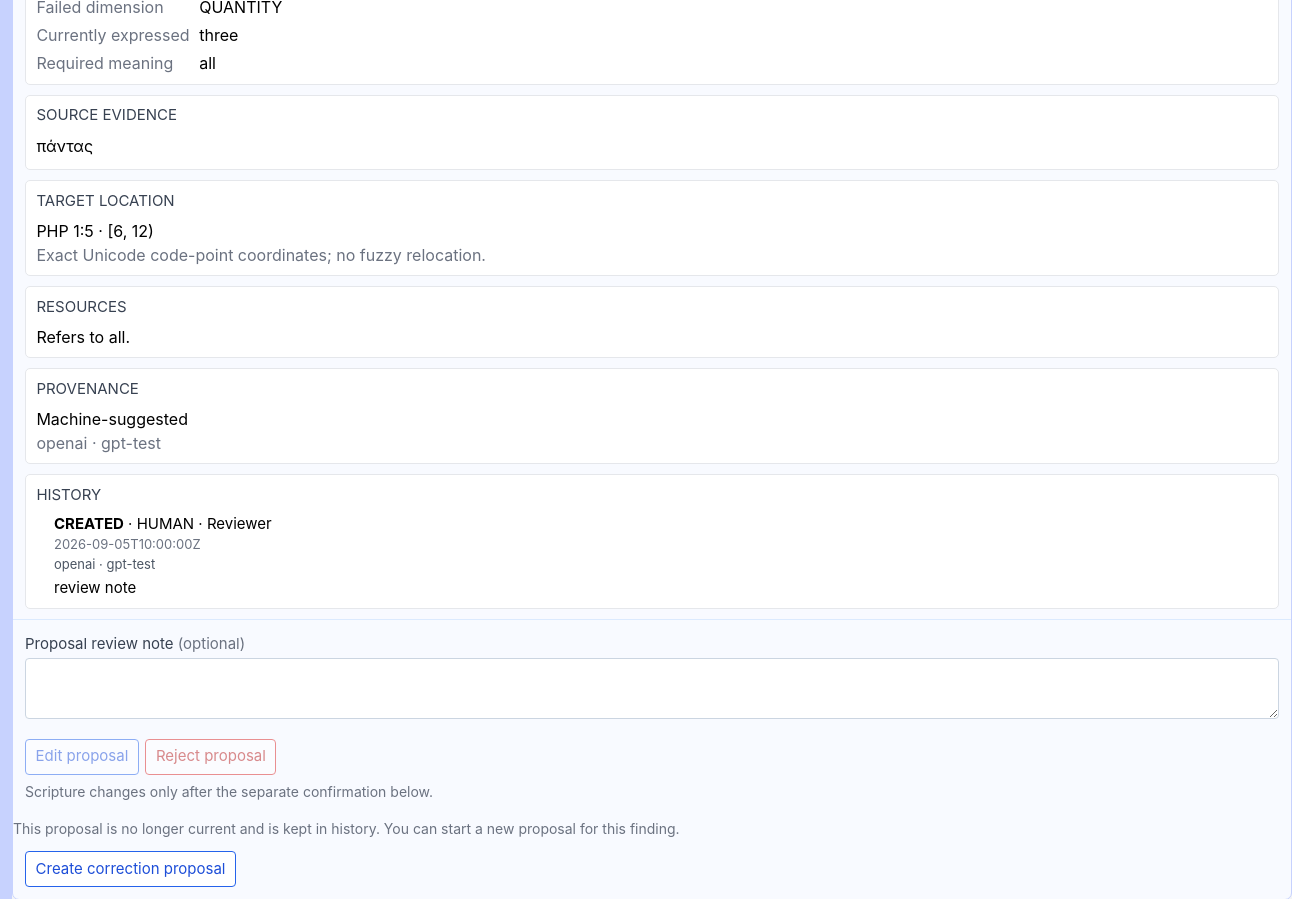
CorrectionReviewPanel › #315: a new proposal after a rejection › creates the new proposal as the rejected one's successor and keeps both listed
(page scrolled)
Click the button "Create correction proposal": click(131, 869) [25,851,236,887]
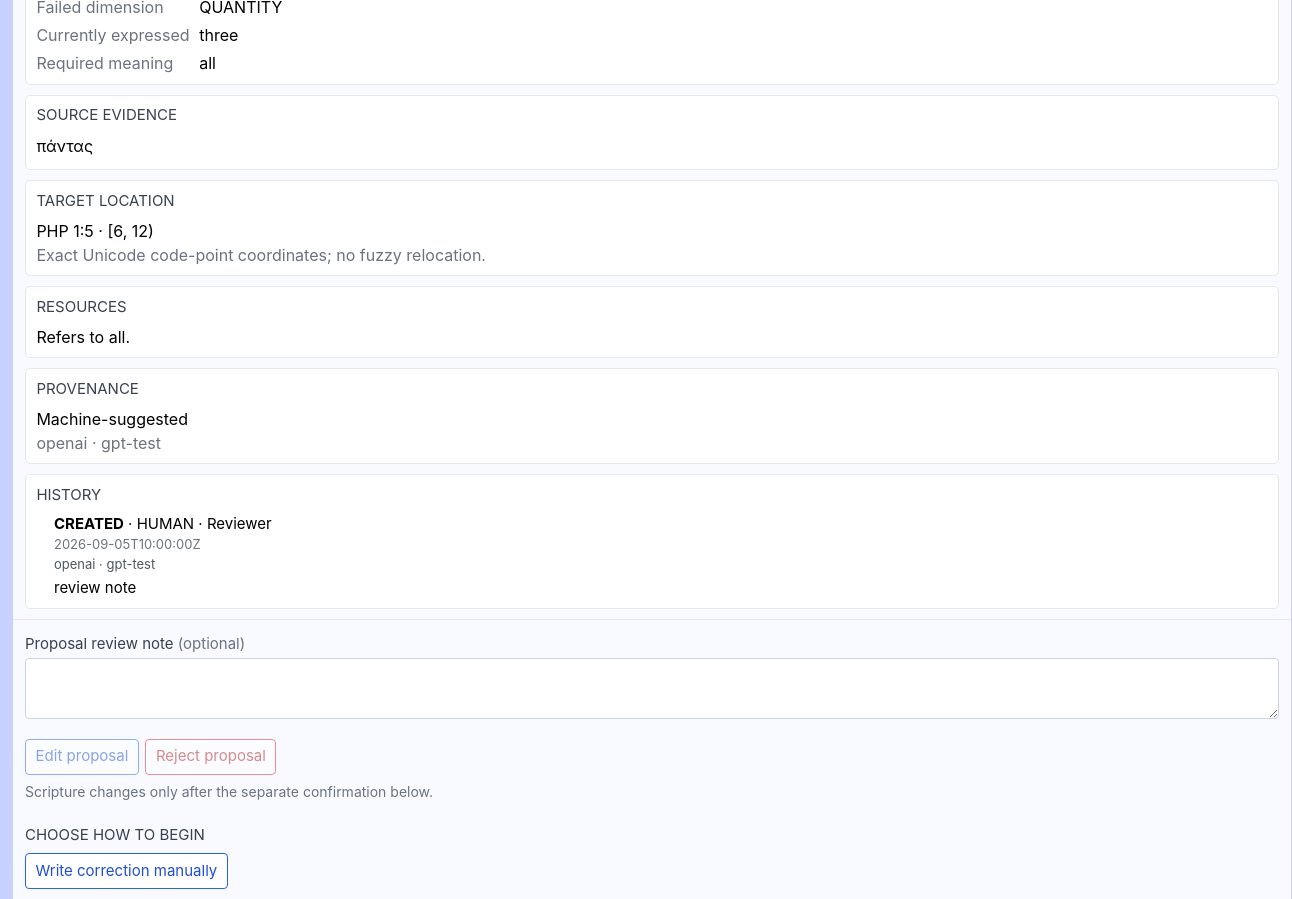
Click the button "Write correction manually": click(126, 871) [25,853,228,889]
(page scrolled)
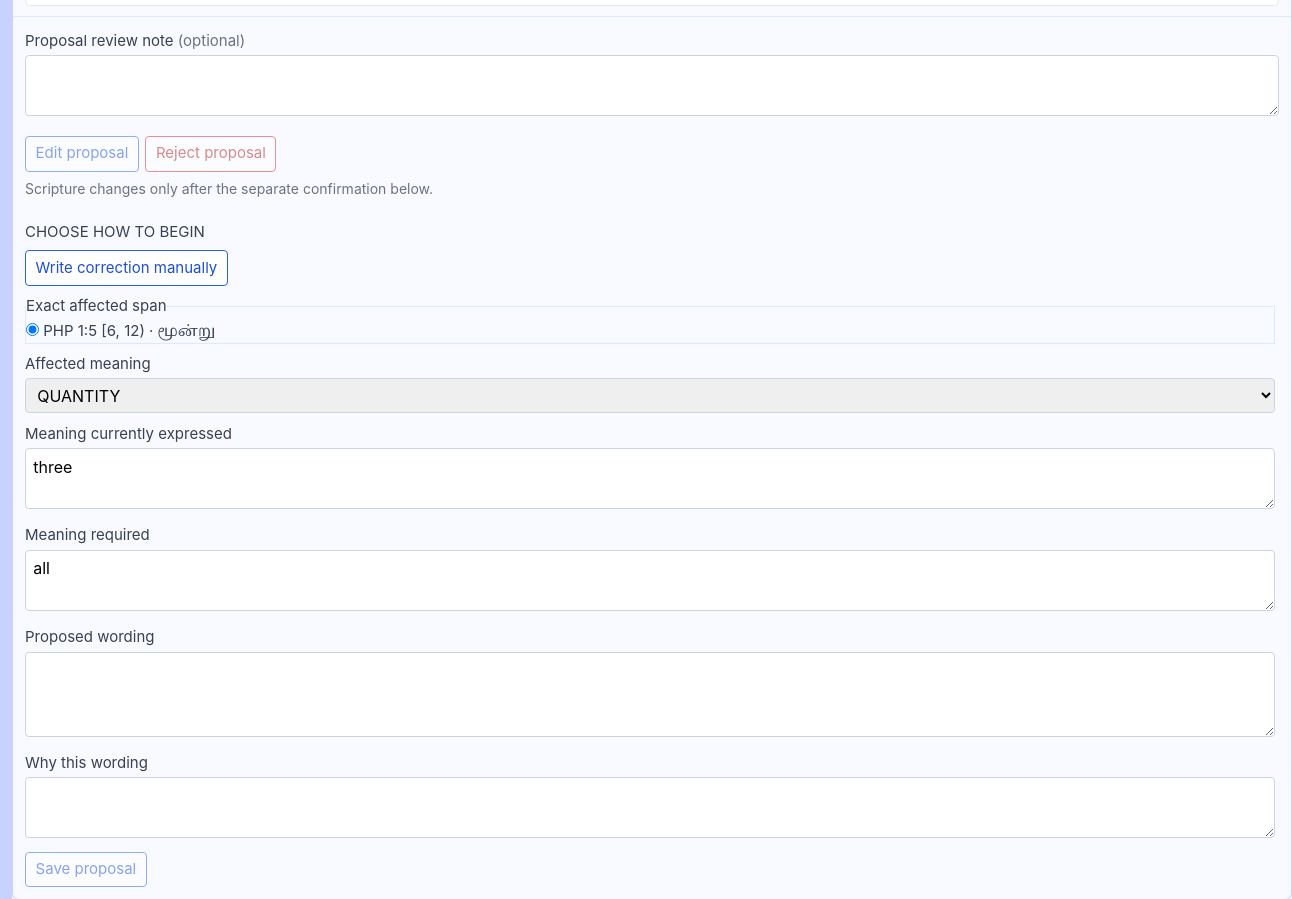
In the text box labelled "Proposed wording": (650, 694) [25,652,1275,737], type "அனைவரும்"
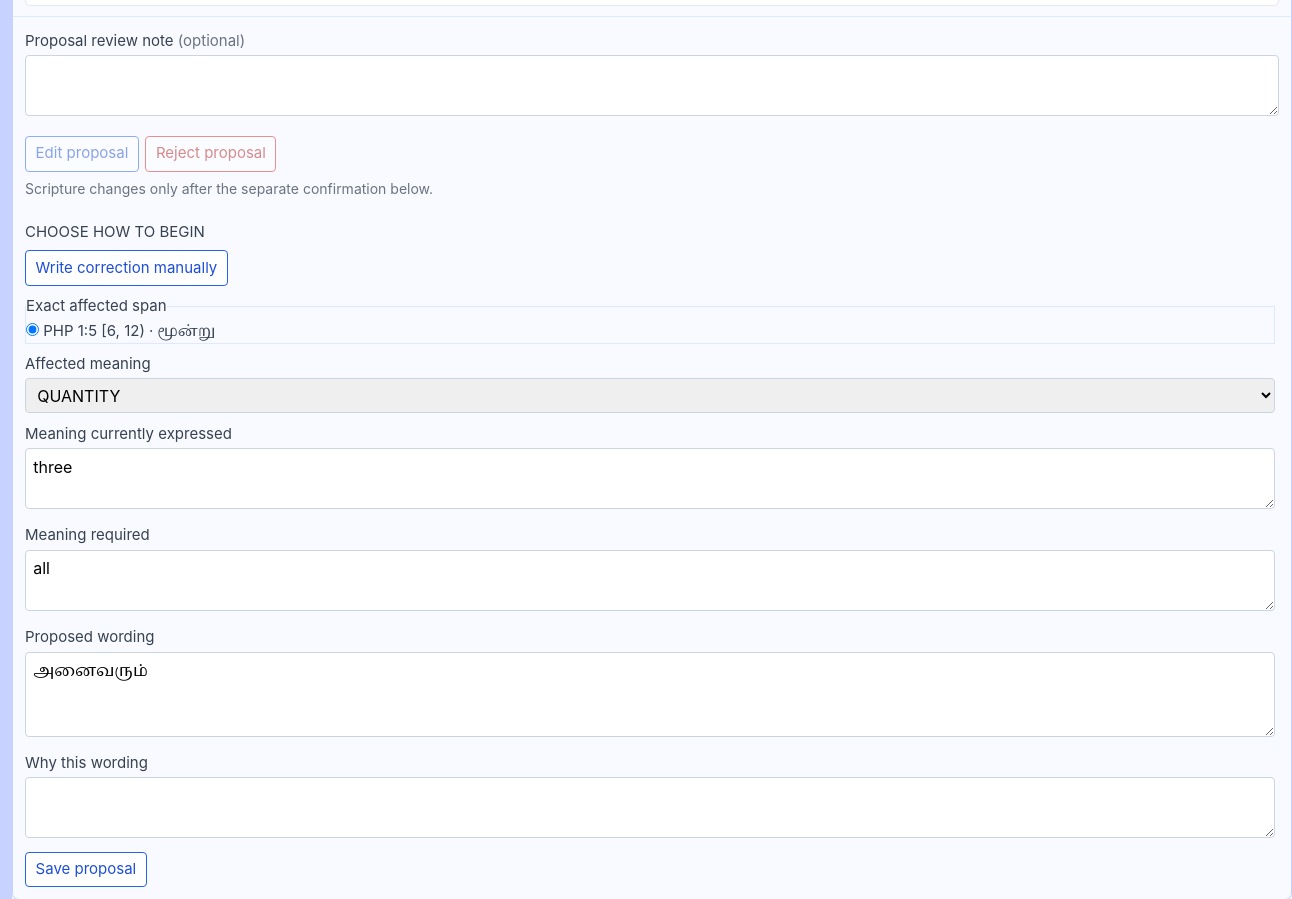
Click the button "Save proposal": click(86, 869) [25,852,147,887]
(page scrolled)
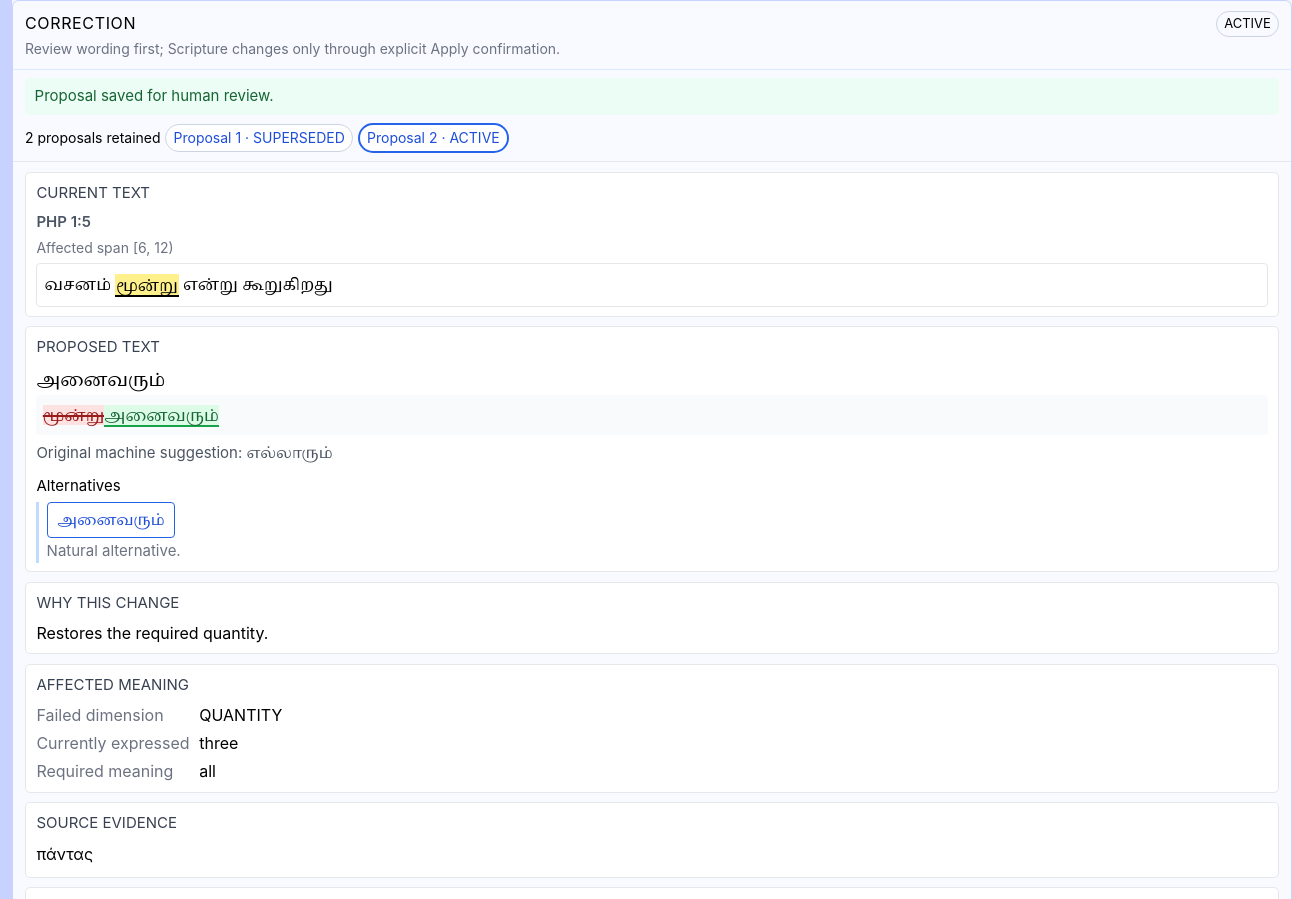
Expected: the button "Create correction proposal" is not shown
Now the text "2 proposals retained" is shown, box [25,127,160,148]
Now the button "Proposal 1 · SUPERSEDED" is shown, box [165,124,353,152]
